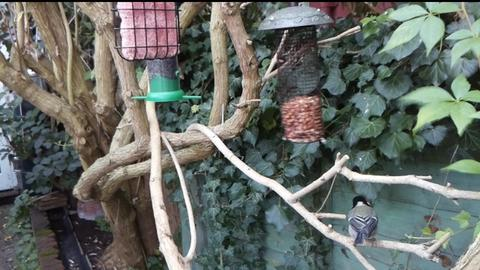great tit: (347, 195, 378, 248)
